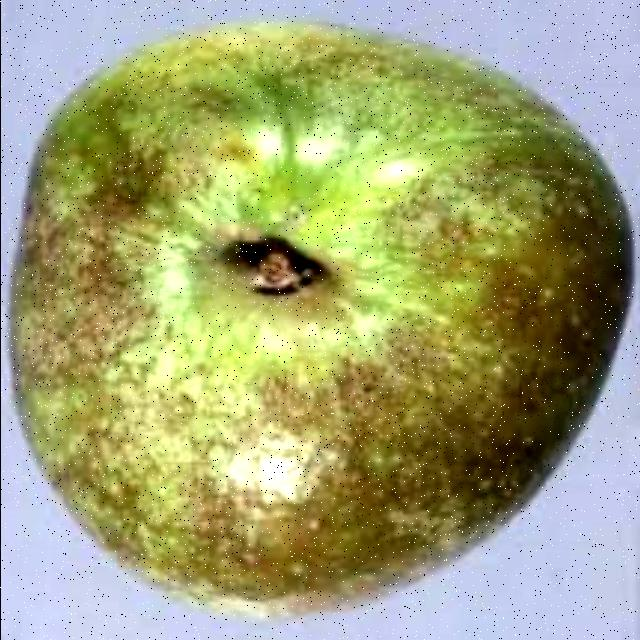BLOTCH: (17, 26, 630, 598)
